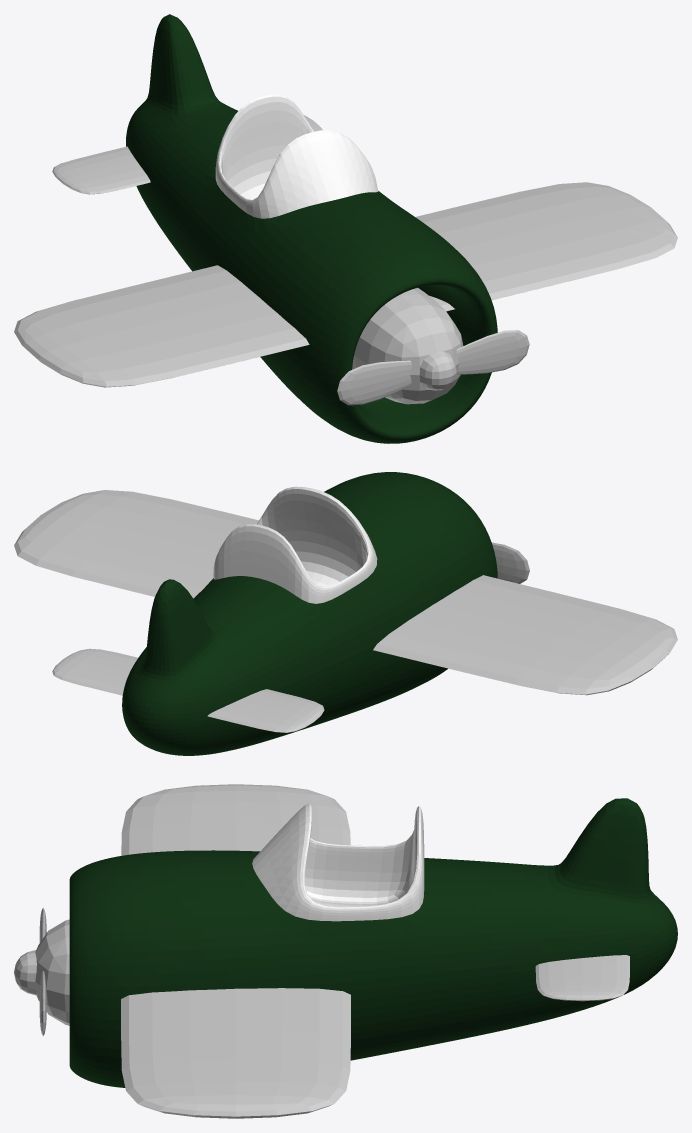
The model's file is player.obj.
The picture shows the model from 3 angles, top to bottom: view 1: azimuth 30°, elevation 25°; view 2: azimuth 150°, elevation 25°; view 3: azimuth 270°, elevation 25°; orthographic projection. The views are drawn at different scales.
Parts seen in each view (by area): view 1: Cube; view 2: Cube; view 3: Cube.
Boxes of the visible parts, bbox=[...] form: Cube: bbox=[14, 14, 677, 443]; Cube: bbox=[14, 472, 677, 755]; Cube: bbox=[14, 784, 677, 1118].
Size of the model in its own units: 5.51 by 2.17 by 4.68.
